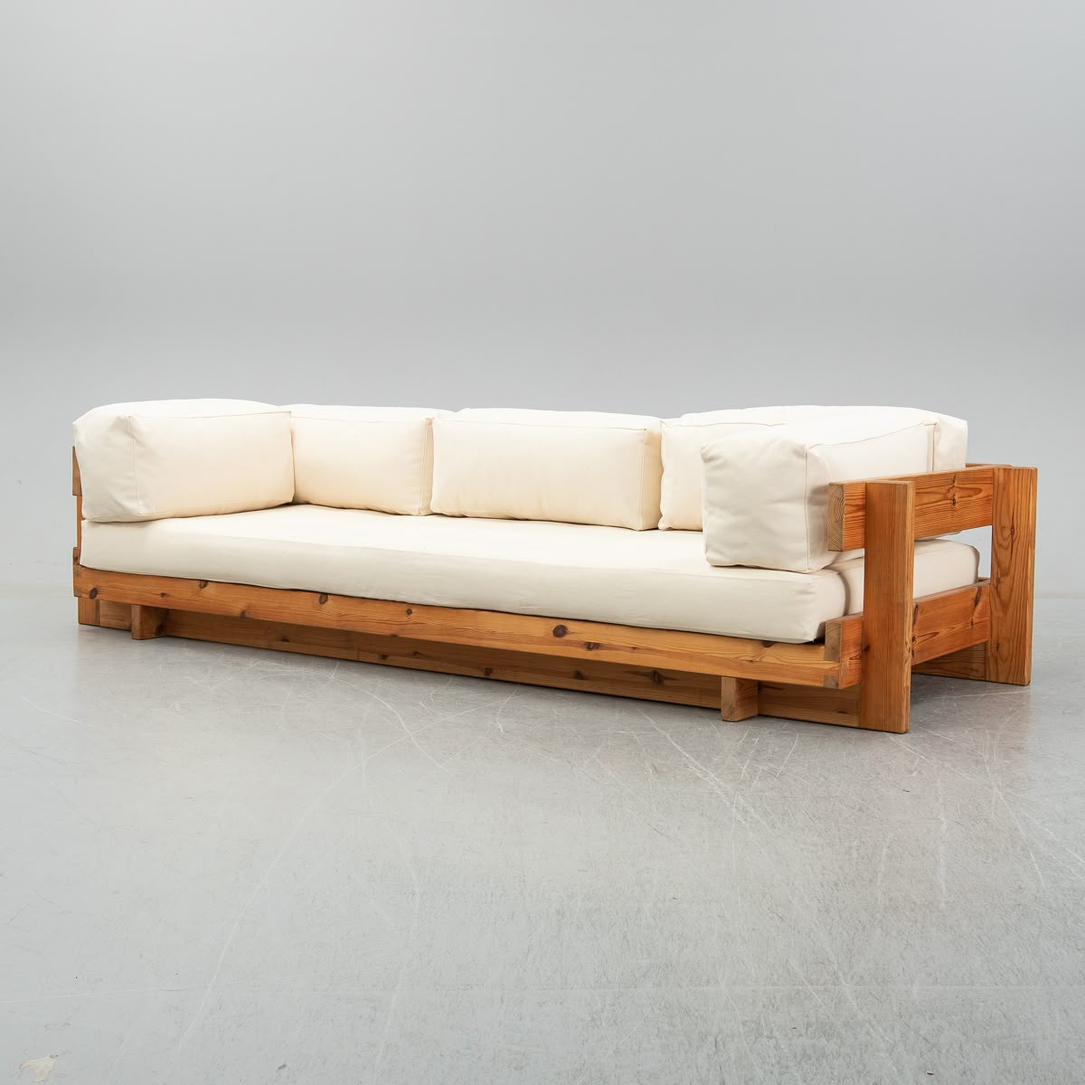3seatersofa: (71, 398, 1036, 732)
backrest: (291, 406, 874, 530)
base: (72, 572, 861, 723), (74, 566, 865, 687), (917, 587, 989, 662)
leftarmrest: (701, 408, 989, 572), (701, 408, 935, 571)
leg: (925, 466, 1038, 680), (863, 470, 913, 732)
rightarmrest: (74, 401, 293, 521)
seat: (83, 505, 863, 642), (915, 540, 978, 593)
